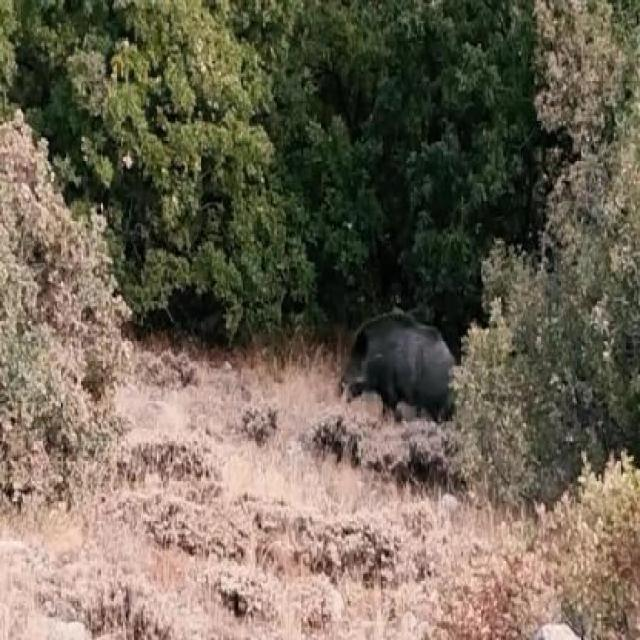WildBoar: (381, 314, 465, 448)
